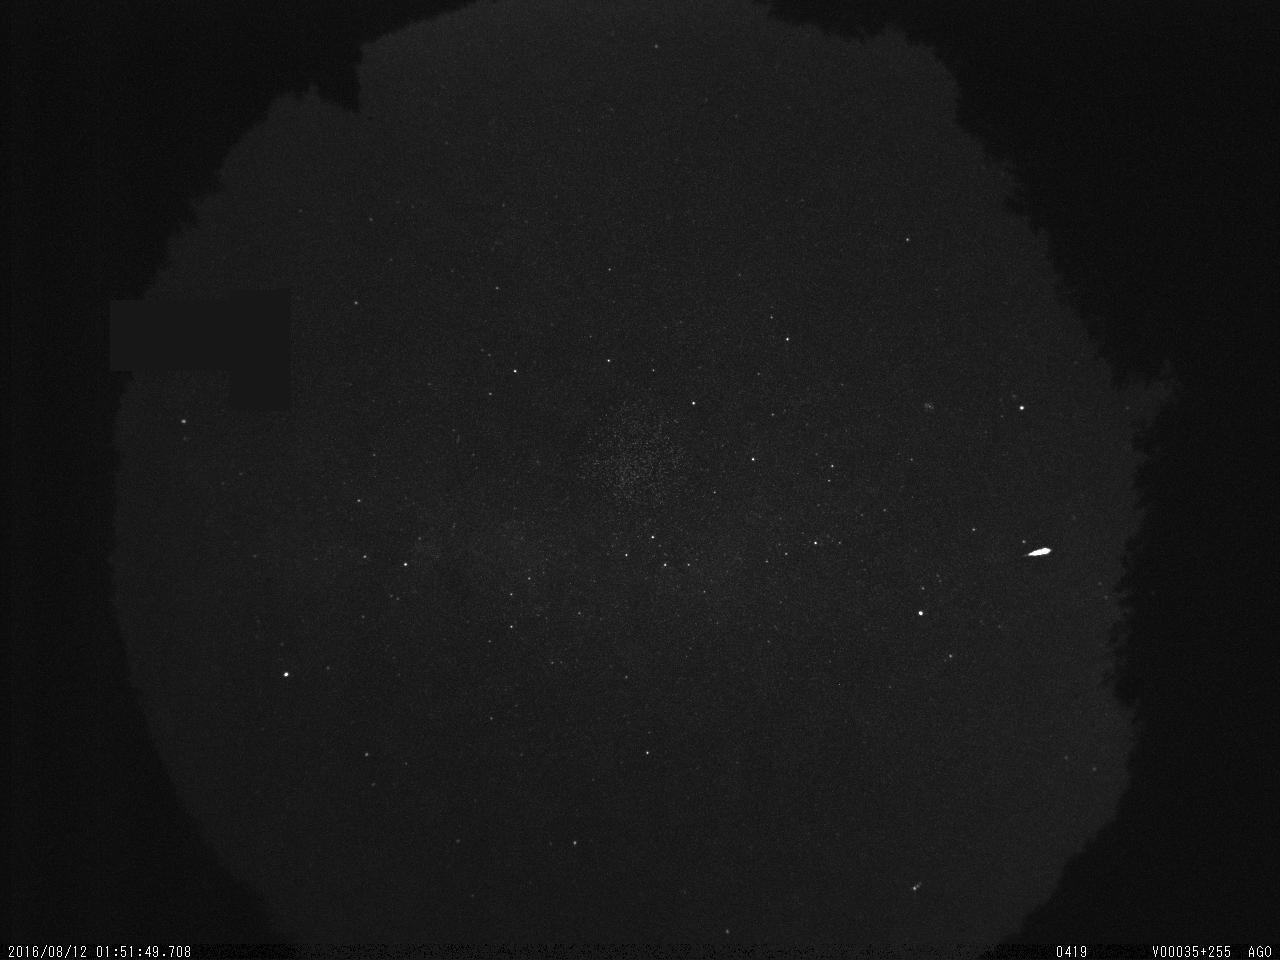meteor: (1020, 538, 1061, 566)
